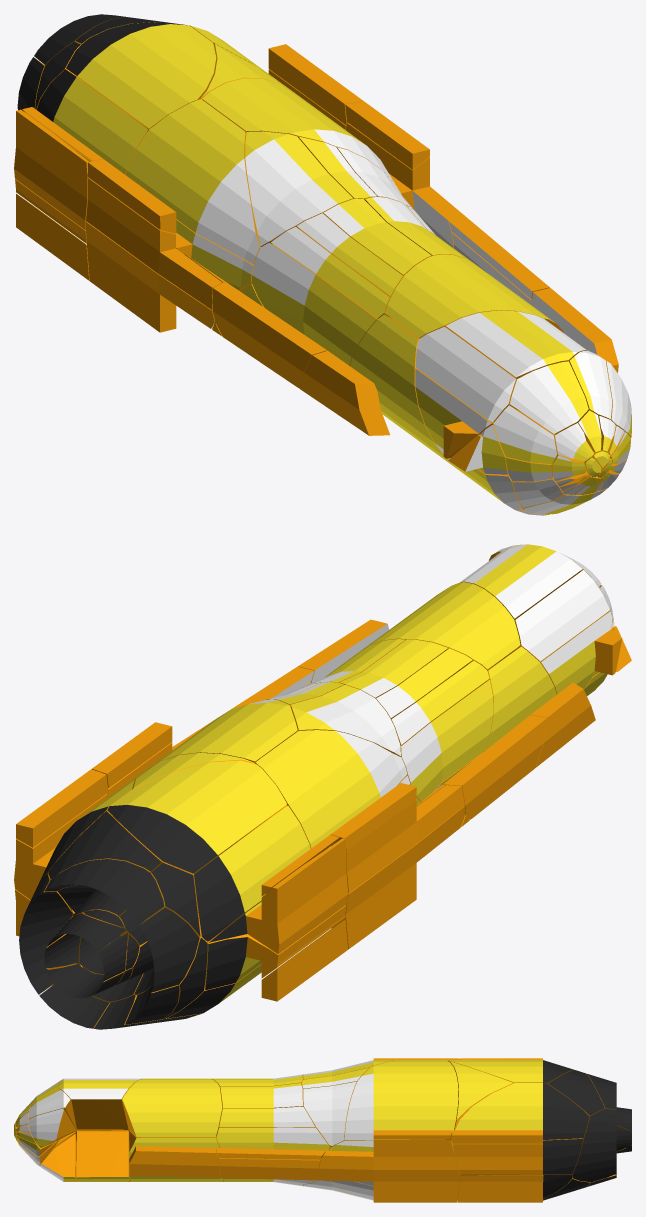
The model's file is Rocket7Broken.fbx.
3 renders of one model, top to bottom at view 1: azimuth 30°, elevation 25°; view 2: azimuth 150°, elevation 25°; view 3: azimuth 270°, elevation 25°, orthographic. The views are drawn at different scales.
Visible parts, largest first — view 1: Cylinder.002_cell.042, Cylinder.002_cell.032, Cylinder.002_cell.084, Cylinder.002_cell.013, Cylinder.002_cell.070, Cylinder.002_cell.099, Cylinder.002_cell.083, Cylinder.002_cell.082, Cylinder.002_cell.045, Cylinder.002_cell.095, Cylinder.002_cell.092, Cylinder.002_cell.009 (+35 smaller); view 2: Cylinder.002_cell.032, Cylinder.002_cell.042, Cylinder.002_cell.095, Cylinder.002_cell.076, Cylinder.002_cell.070, Cylinder.002_cell.013, Cylinder.002_cell.083, Cylinder.002_cell.092, Cylinder.002_cell.045, Cylinder.002_cell.099, Cylinder.002_cell.009, Cylinder.002_cell.038 (+35 smaller); view 3: Cylinder.002_cell.099, Cylinder.002_cell.072, Cylinder.002_cell.070, Cylinder.002_cell.104, Cylinder.002_cell.002, Cylinder.002_cell.092, Cylinder.002_cell.071, Cylinder.002_cell.024, Cylinder.002_cell.068, Cylinder.002_cell.031, Cylinder.002_cell.069, Cylinder.002_cell.043 (+28 smaller).
Boxes of the visible parts, x1,y1,x2,y2 form: Cylinder.002_cell.042: [125, 99, 260, 264]; Cylinder.002_cell.032: [66, 22, 216, 128]; Cylinder.002_cell.084: [245, 131, 353, 246]; Cylinder.002_cell.013: [252, 242, 377, 365]; Cylinder.002_cell.070: [385, 254, 563, 338]; Cylinder.002_cell.099: [202, 78, 395, 184]; Cylinder.002_cell.083: [86, 221, 214, 332]; Cylinder.002_cell.082: [350, 314, 452, 465]; Cylinder.002_cell.045: [86, 178, 222, 309]; Cylinder.002_cell.095: [37, 69, 148, 174]; Cylinder.002_cell.092: [446, 310, 586, 379]; Cylinder.002_cell.009: [212, 281, 326, 387]; Cylinder.002_cell.032: [107, 760, 286, 874]; Cylinder.002_cell.042: [255, 730, 407, 848]; Cylinder.002_cell.095: [194, 805, 310, 941]; Cylinder.002_cell.076: [209, 838, 348, 954]; Cylinder.002_cell.070: [361, 582, 520, 669]; Cylinder.002_cell.013: [400, 679, 493, 801]; Cylinder.002_cell.083: [331, 806, 465, 949]; Cylinder.002_cell.092: [460, 544, 582, 620]; Cylinder.002_cell.045: [346, 785, 464, 893]; Cylinder.002_cell.099: [148, 699, 297, 768]; Cylinder.002_cell.009: [443, 715, 546, 819]; Cylinder.002_cell.038: [514, 570, 609, 661]; Cylinder.002_cell.099: [344, 1061, 458, 1140]; Cylinder.002_cell.072: [317, 1140, 459, 1202]; Cylinder.002_cell.070: [122, 1078, 222, 1137]; Cylinder.002_cell.104: [455, 1083, 589, 1139]; Cylinder.002_cell.002: [452, 1138, 582, 1174]; Cylinder.002_cell.092: [59, 1078, 142, 1129]; Cylinder.002_cell.071: [76, 1131, 130, 1181]; Cylinder.002_cell.024: [129, 1146, 220, 1177]; Cylinder.002_cell.068: [571, 1108, 616, 1182]; Cylinder.002_cell.031: [458, 1175, 542, 1202]; Cylinder.002_cell.069: [303, 1081, 356, 1147]; Cylinder.002_cell.043: [216, 1127, 329, 1149].
Size of the model in its own units: 0.6134 by 0.4639 by 2.04.
